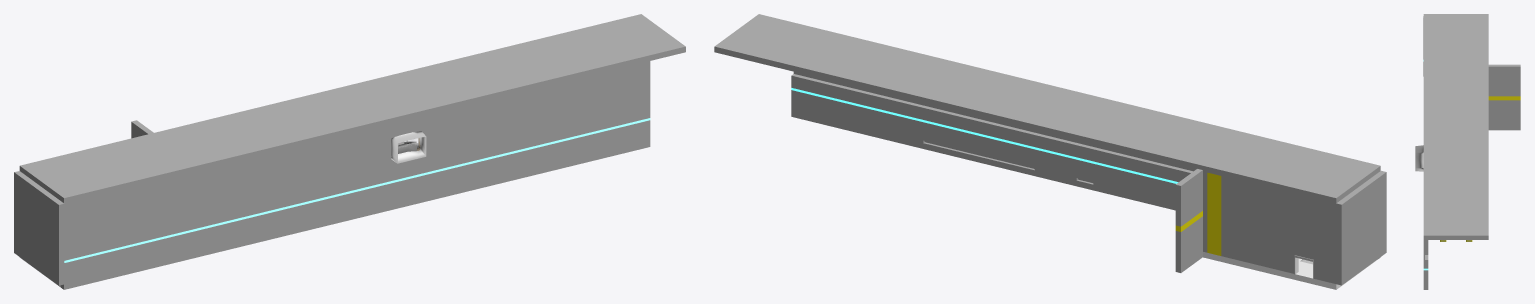
File: 3rd Room.fbx
The picture shows the model from 3 angles, left to right: view 1: azimuth 30°, elevation 25°; view 2: azimuth 150°, elevation 25°; view 3: azimuth 270°, elevation 25°; orthographic projection. The views are drawn at different scales.
Visible parts, largest first — view 1: Cube.002, Cube.008, Cube.021; view 2: Cube.008, Cube.002, Cube.012, Cube.021, Cube.003, Cube.001; view 3: Cube.008, Cube.003, Cube.002.
Part boxes in pixels (<box>): Cube.002: <box>61,60,650,289</box>; Cube.008: <box>19,14,685,203</box>; Cube.021: <box>14,171,64,285</box>; Cube.008: <box>714,14,1380,203</box>; Cube.002: <box>791,71,1380,258</box>; Cube.012: <box>1203,171,1336,283</box>; Cube.021: <box>1336,170,1386,285</box>; Cube.003: <box>1175,169,1202,272</box>; Cube.001: <box>1203,252,1377,289</box>; Cube.008: <box>1423,14,1488,241</box>; Cube.003: <box>1488,64,1520,130</box>; Cube.002: <box>1415,145,1428,289</box>.
Bounding box in the file's own units: 11408 × 1595 × 2265.
